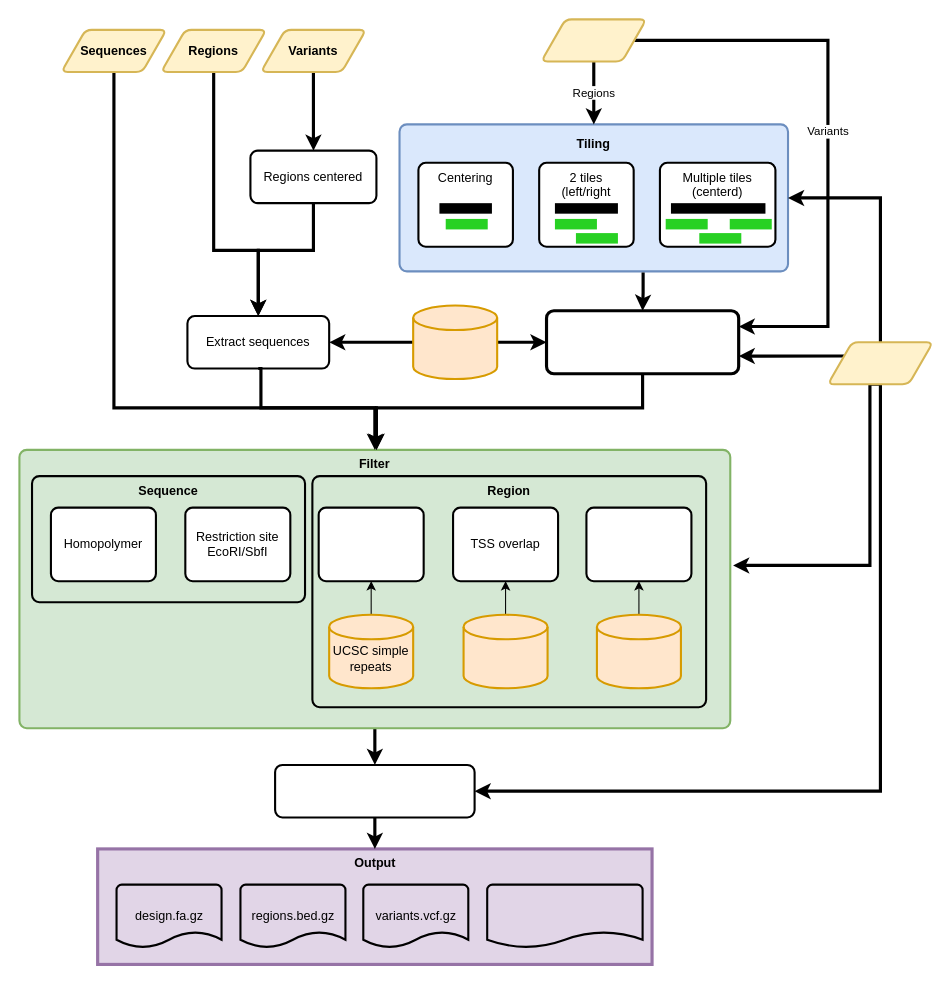
This 951x984 diagram has some shape labels left out. The shapes that lost their labels are listed below. From the top down, each one's centre as x and y in pixels, then its label:
(x=593, y=40): Variants Regions
(x=455, y=342): Reference Genome
(x=642, y=342): Map variants & Extract sequences
(x=879, y=363): Config file
(x=370, y=544): Simple repeats
(x=638, y=544): CTCF overlap
(x=505, y=651): Genecode v42
(x=638, y=651): TODO
(x=374, y=790): Add adapters
(x=564, y=915): variant_region_map.gz
